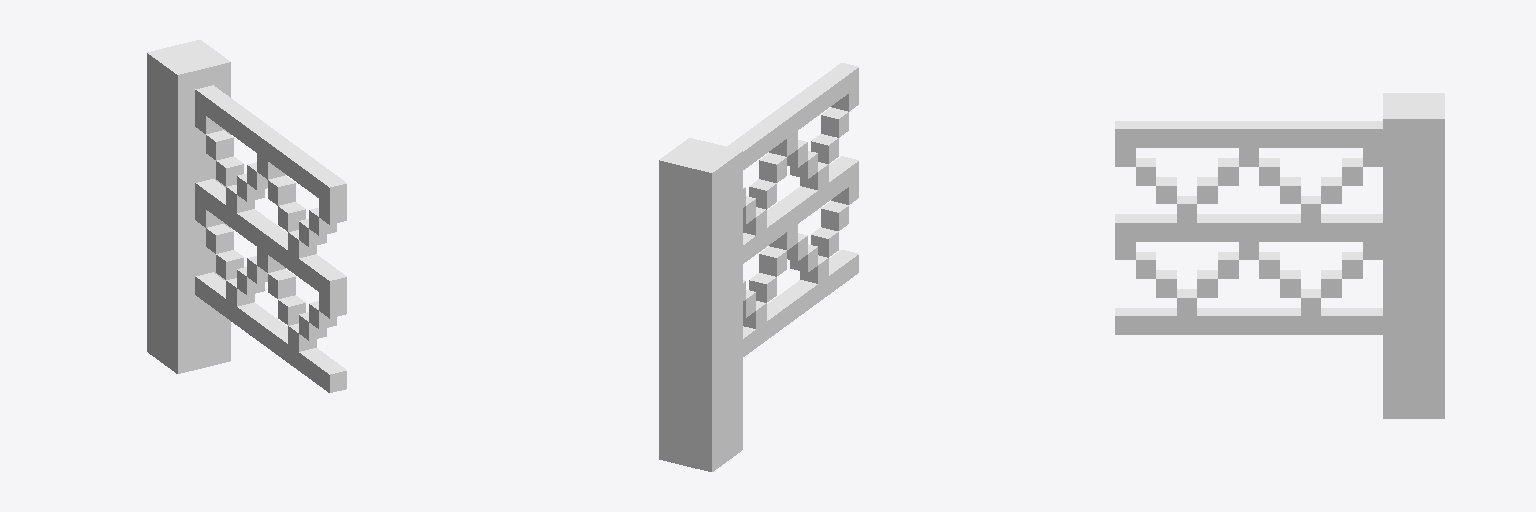
Rendered from vallas.obj.
3 renders of one model, left to right at view 1: azimuth 30°, elevation 25°; view 2: azimuth 150°, elevation 25°; view 3: azimuth 270°, elevation 25°, orthographic.
Parts seen in each view (by area): view 1: object 1; view 2: object 1; view 3: object 1.
Boxes of the visible parts, <box> form: object 1: <box>147,40,346,392</box>; object 1: <box>659,63,858,471</box>; object 1: <box>1115,93,1444,418</box>.
Size of the model in its own units: 0.3 by 1.6 by 1.6.